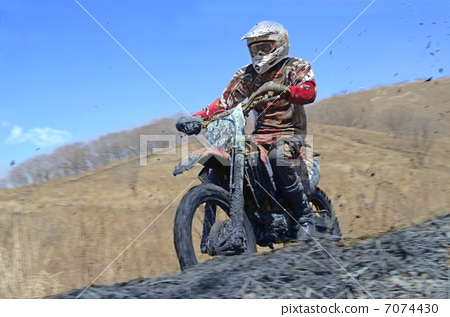helmet: (241, 21, 295, 77)
